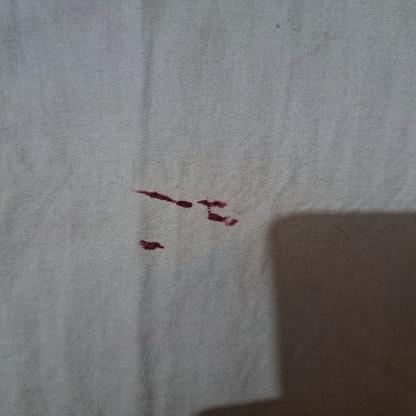spot: (188, 194, 247, 236), (133, 182, 197, 213), (136, 236, 176, 255)
